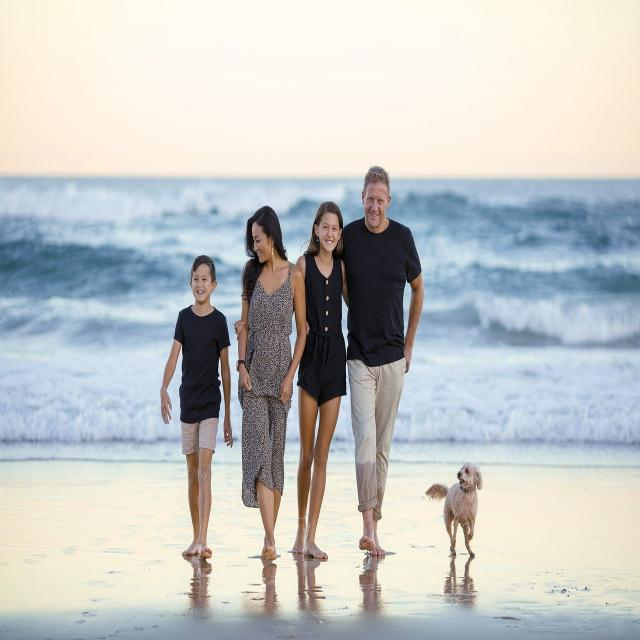face: (363, 183, 389, 230), (317, 212, 341, 254), (252, 224, 272, 266), (192, 265, 212, 304)
